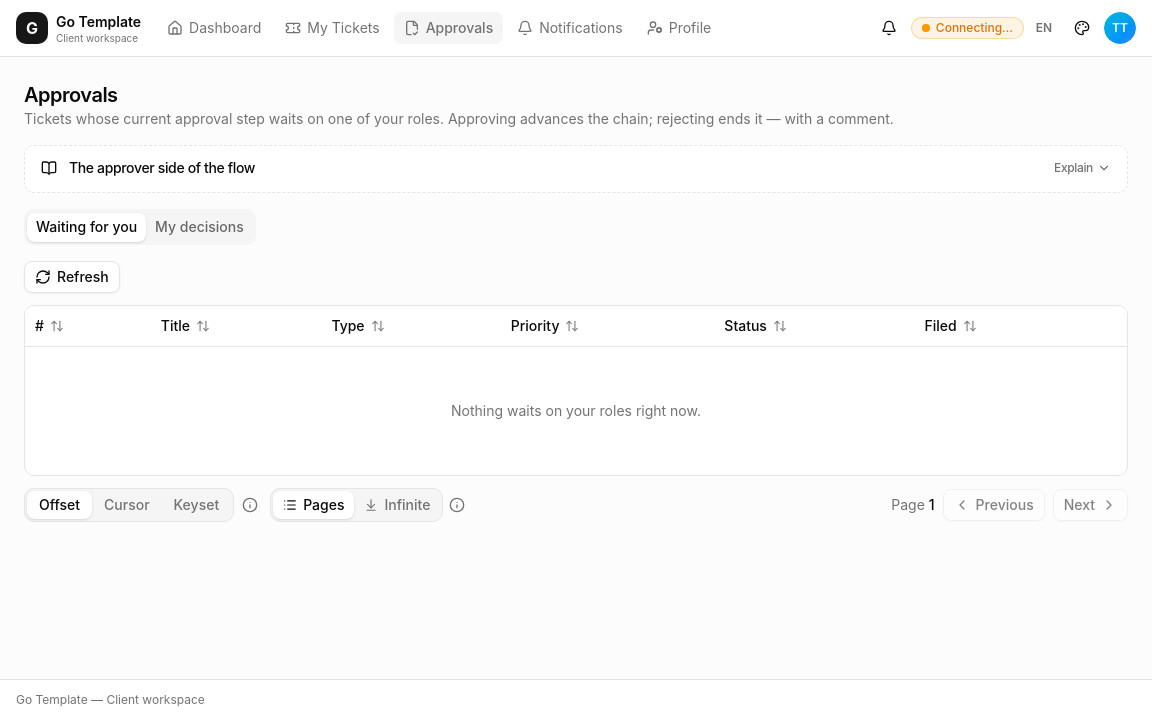
Test case: approvals page › lists past decisions under My decisions
The width and height of the screenshot is (1152, 720).
Check: the heading "Approvals" is shown, box [24,83,118,107]
Step 1. Click the tab "My decisions" → (199, 227), box [146,212,253,242]
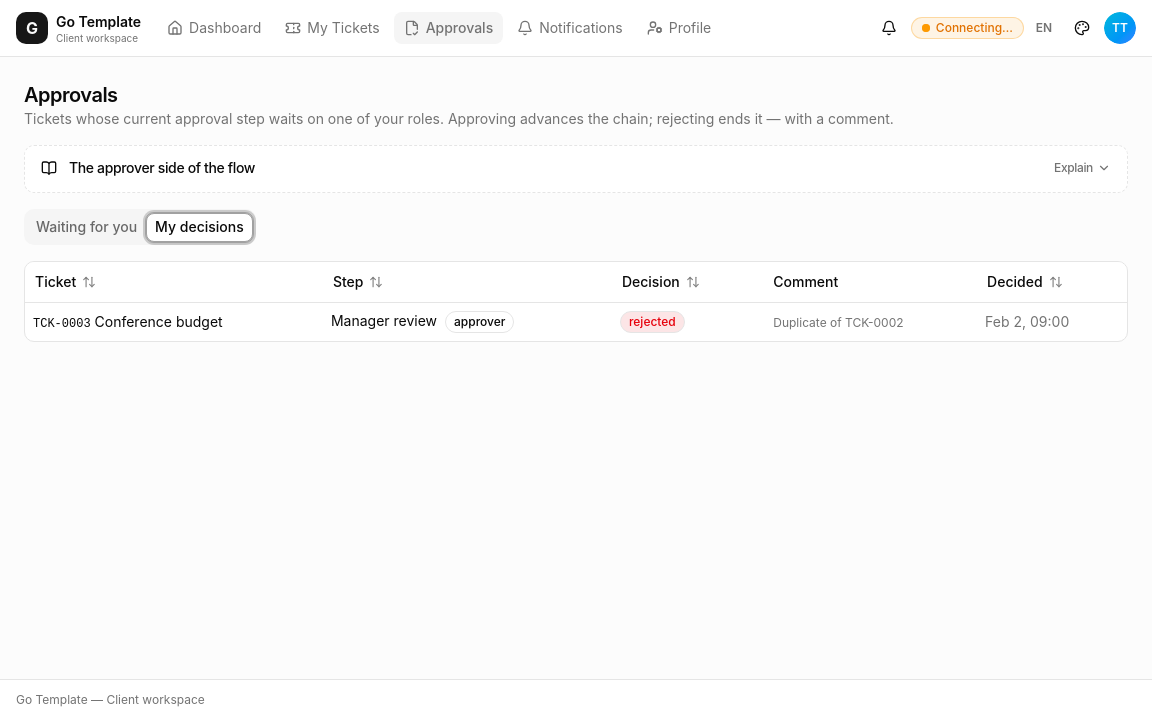
Check: the link "TCK-0003 Conference budget" is shown, box [33,312,223,330]
Check: the text "rejected" is shown, box [620,310,685,332]
Check: the text "Duplicate of TCK-0002" is shown, box [773,314,904,330]
